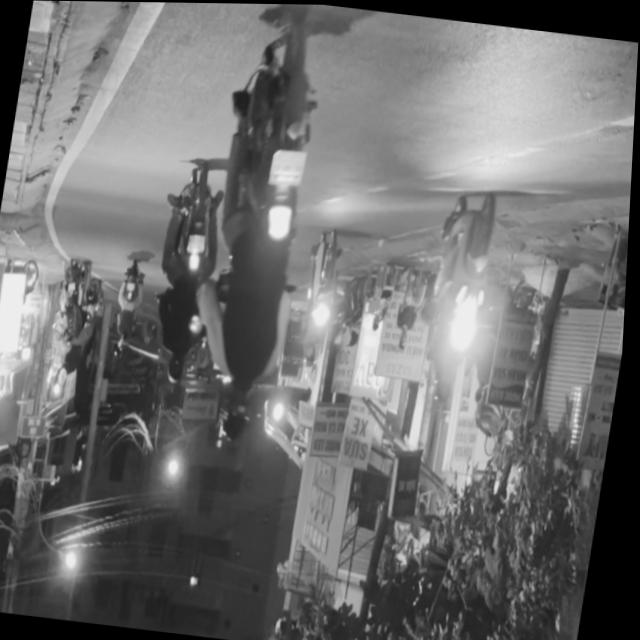licenseplate: (178, 3, 338, 457), (404, 174, 510, 408)
motorcyclist: (220, 380, 259, 445)
nohelmet: (270, 147, 309, 186)
